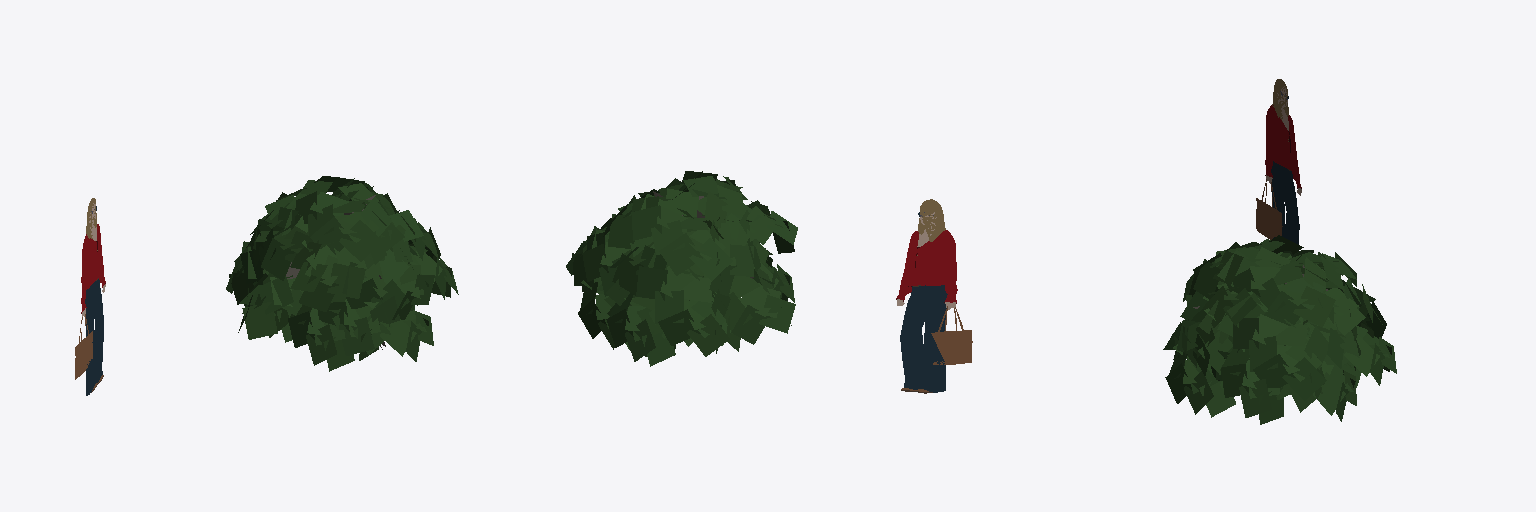
Rendered from arbusto.obj.
3 views of the same model, side by side, from view 1: azimuth 30°, elevation 25°; view 2: azimuth 150°, elevation 25°; view 3: azimuth 270°, elevation 25° (orthographic).
Parts seen in each view (by area): view 1: Mesh1 Laura1 Model, Mesh107 Holly_Leaf_Cluester104 Three_Leaf_Cluster35 Component_4_, Mesh70 Holly_Leaf_Cluester67 Three_Leaf_Cluster23 Component_4_6 , Mesh172 Holly_Leaf_Cluester169 Three_Leaf_Cluster57 Component_4_, Mesh28 Holly_Leaf_Cluester25 Three_Leaf_Cluster9 Component_4_3 C, Mesh137 Holly_Leaf_Cluester134 Three_Leaf_Cluster45 Component_4_, Mesh106 Holly_Leaf_Cluester103 Three_Leaf_Cluster35 Component_4_, Mesh71 Holly_Leaf_Cluester68 Three_Leaf_Cluster23 Component_4_6 , Mesh232 Holly_Leaf_Cluester229 Three_Leaf_Cluster77 Component_4_, Mesh173 Holly_Leaf_Cluester170 Three_Leaf_Cluster57 Component_4_, Mesh223 Holly_Leaf_Cluester220 Three_Leaf_Cluster74 Component_4_, Mesh64 Holly_Leaf_Cluester61 Three_Leaf_Cluster21 Component_4_6  (+3 smaller); view 2: Mesh1 Laura1 Model, Mesh149 Holly_Leaf_Cluester146 Three_Leaf_Cluster49 Component_4_, Mesh112 Holly_Leaf_Cluester109 Three_Leaf_Cluster37 Component_4_, Mesh148 Holly_Leaf_Cluester145 Three_Leaf_Cluster49 Component_4_, Mesh100 Holly_Leaf_Cluester97 Three_Leaf_Cluster33 Component_4_9, Mesh116 Holly_Leaf_Cluester113 Three_Leaf_Cluster38 Component_4_, Mesh113 Holly_Leaf_Cluester110 Three_Leaf_Cluster37 Component_4_, Mesh152 Holly_Leaf_Cluester149 Three_Leaf_Cluster50 Component_4_, Mesh101 Holly_Leaf_Cluester98 Three_Leaf_Cluster33 Component_4_9, Mesh115 Holly_Leaf_Cluester112 Three_Leaf_Cluster38 Component_4_, Mesh167 Holly_Leaf_Cluester164 Three_Leaf_Cluster55 Component_4_, Mesh131 Holly_Leaf_Cluester128 Three_Leaf_Cluster43 Component_4_ (+10 smaller); view 3: Mesh1 Laura1 Model, Mesh160 Holly_Leaf_Cluester157 Three_Leaf_Cluster53 Component_4_, Mesh304 Holly_Leaf_Cluester301 Three_Leaf_Cluster101 Component_4, Mesh268 Holly_Leaf_Cluester265 Three_Leaf_Cluster89 Component_4_, Mesh124 Holly_Leaf_Cluester121 Three_Leaf_Cluster41 Component_4_, Mesh305 Holly_Leaf_Cluester302 Three_Leaf_Cluster101 Component_4, Mesh161 Holly_Leaf_Cluester158 Three_Leaf_Cluster53 Component_4_, Mesh307 Holly_Leaf_Cluester304 Three_Leaf_Cluster102 Component_4, Mesh269 Holly_Leaf_Cluester266 Three_Leaf_Cluster89 Component_4_, Mesh308 Holly_Leaf_Cluester305 Three_Leaf_Cluster102 Component_4, Mesh179 Holly_Leaf_Cluester176 Three_Leaf_Cluster59 Component_4_, Mesh259 Holly_Leaf_Cluester256 Three_Leaf_Cluster86 Component_4_ (+6 smaller).
Boxes of the visible parts, x1,y1,x2,y2 form: Mesh1 Laura1 Model: [75, 198, 105, 395]; Mesh107 Holly_Leaf_Cluester104 Three_Leaf_Cluster35 Component_4_: [242, 302, 277, 339]; Mesh70 Holly_Leaf_Cluester67 Three_Leaf_Cluster23 Component_4_6 : [327, 263, 365, 298]; Mesh172 Holly_Leaf_Cluester169 Three_Leaf_Cluster57 Component_4_: [339, 220, 381, 261]; Mesh28 Holly_Leaf_Cluester25 Three_Leaf_Cluster9 Component_4_3 C: [339, 317, 374, 355]; Mesh137 Holly_Leaf_Cluester134 Three_Leaf_Cluster45 Component_4_: [261, 238, 294, 280]; Mesh106 Holly_Leaf_Cluester103 Three_Leaf_Cluster35 Component_4_: [257, 276, 293, 314]; Mesh71 Holly_Leaf_Cluester68 Three_Leaf_Cluster23 Component_4_6 : [299, 275, 338, 311]; Mesh232 Holly_Leaf_Cluester229 Three_Leaf_Cluster77 Component_4_: [306, 324, 336, 365]; Mesh173 Holly_Leaf_Cluester170 Three_Leaf_Cluster57 Component_4_: [310, 216, 352, 254]; Mesh223 Holly_Leaf_Cluester220 Three_Leaf_Cluster74 Component_4_: [380, 319, 416, 356]; Mesh64 Holly_Leaf_Cluester61 Three_Leaf_Cluster21 Component_4_6 : [290, 262, 327, 291]; Mesh1 Laura1 Model: [896, 199, 972, 393]; Mesh149 Holly_Leaf_Cluester146 Three_Leaf_Cluster49 Component_4_: [659, 233, 702, 275]; Mesh112 Holly_Leaf_Cluester109 Three_Leaf_Cluster37 Component_4_: [687, 314, 729, 356]; Mesh148 Holly_Leaf_Cluester145 Three_Leaf_Cluster49 Component_4_: [689, 238, 732, 280]; Mesh100 Holly_Leaf_Cluester97 Three_Leaf_Cluster33 Component_4_9: [759, 295, 795, 333]; Mesh116 Holly_Leaf_Cluester113 Three_Leaf_Cluster38 Component_4_: [636, 266, 667, 300]; Mesh113 Holly_Leaf_Cluester110 Three_Leaf_Cluster37 Component_4_: [658, 309, 700, 345]; Mesh152 Holly_Leaf_Cluester149 Three_Leaf_Cluster50 Component_4_: [631, 205, 661, 240]; Mesh101 Holly_Leaf_Cluester98 Three_Leaf_Cluster33 Component_4_9: [731, 305, 770, 344]; Mesh115 Holly_Leaf_Cluester112 Three_Leaf_Cluster38 Component_4_: [655, 290, 683, 323]; Mesh167 Holly_Leaf_Cluester164 Three_Leaf_Cluster55 Component_4_: [608, 214, 634, 248]; Mesh131 Holly_Leaf_Cluester128 Three_Leaf_Cluster43 Component_4_: [612, 253, 643, 295]; Mesh1 Laura1 Model: [1256, 79, 1301, 244]; Mesh160 Holly_Leaf_Cluester157 Three_Leaf_Cluster53 Component_4_: [1293, 286, 1335, 327]; Mesh304 Holly_Leaf_Cluester301 Three_Leaf_Cluster101 Component_4: [1282, 357, 1326, 400]; Mesh268 Holly_Leaf_Cluester265 Three_Leaf_Cluster89 Component_4_: [1239, 379, 1271, 417]; Mesh124 Holly_Leaf_Cluester121 Three_Leaf_Cluster41 Component_4_: [1327, 295, 1365, 335]; Mesh305 Holly_Leaf_Cluester302 Three_Leaf_Cluster101 Component_4: [1253, 354, 1295, 387]; Mesh161 Holly_Leaf_Cluester158 Three_Leaf_Cluster53 Component_4_: [1264, 291, 1306, 325]; Mesh307 Holly_Leaf_Cluester304 Three_Leaf_Cluster102 Component_4: [1249, 336, 1277, 371]; Mesh269 Holly_Leaf_Cluester266 Three_Leaf_Cluster89 Component_4_: [1221, 364, 1248, 397]; Mesh308 Holly_Leaf_Cluester305 Three_Leaf_Cluster102 Component_4: [1233, 318, 1258, 348]; Mesh179 Holly_Leaf_Cluester176 Three_Leaf_Cluster59 Component_4_: [1193, 259, 1220, 299]; Mesh259 Holly_Leaf_Cluester256 Three_Leaf_Cluster86 Component_4_: [1313, 372, 1345, 415].
Size of the model in its own units: 3.54 by 1.7 by 1.86.